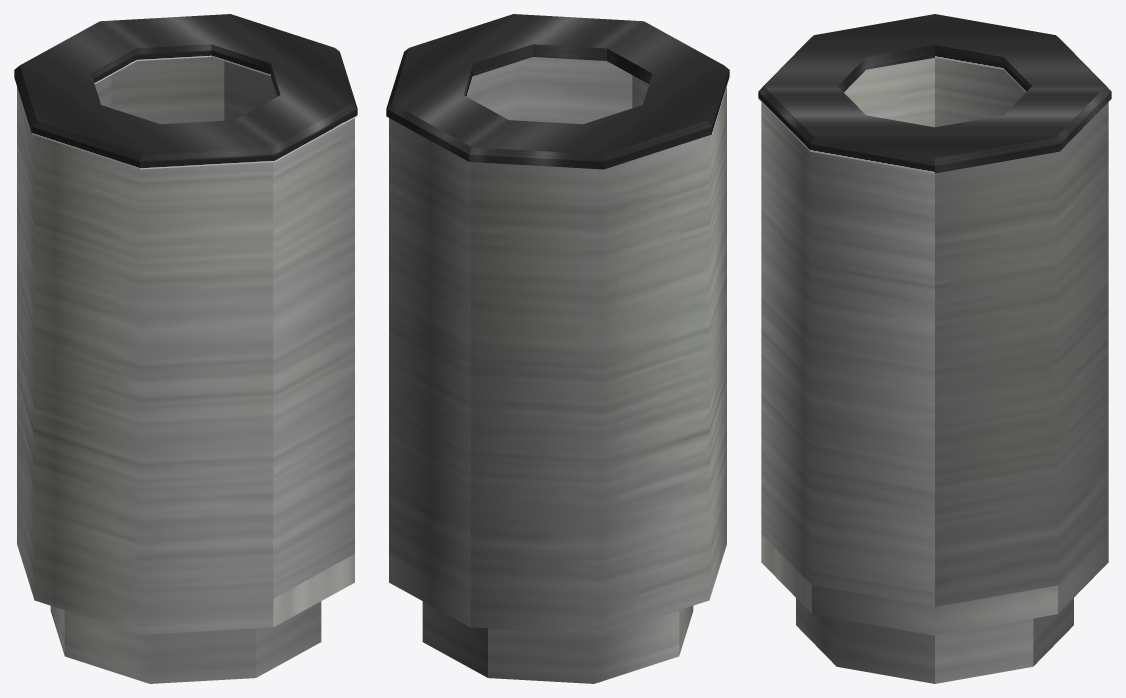
File: VRBin.fbx
3 renders of one model, left to right at view 1: azimuth 30°, elevation 25°; view 2: azimuth 150°, elevation 25°; view 3: azimuth 270°, elevation 25°, orthographic.
Visible parts, largest first — view 1: bin-body, bin-cover; view 2: bin-body, bin-cover; view 3: bin-body, bin-cover.
Boxes of the visible parts, <box> form: bin-body: <box>17,57,354,683</box>; bin-cover: <box>14,14,357,169</box>; bin-body: <box>389,57,726,683</box>; bin-cover: <box>386,14,729,169</box>; bin-body: <box>761,57,1108,683</box>; bin-cover: <box>758,14,1111,173</box>.
Size of the model in its own units: 50.8 by 85.56 by 50.8.
Materials: 2 (2 with a texture image).
